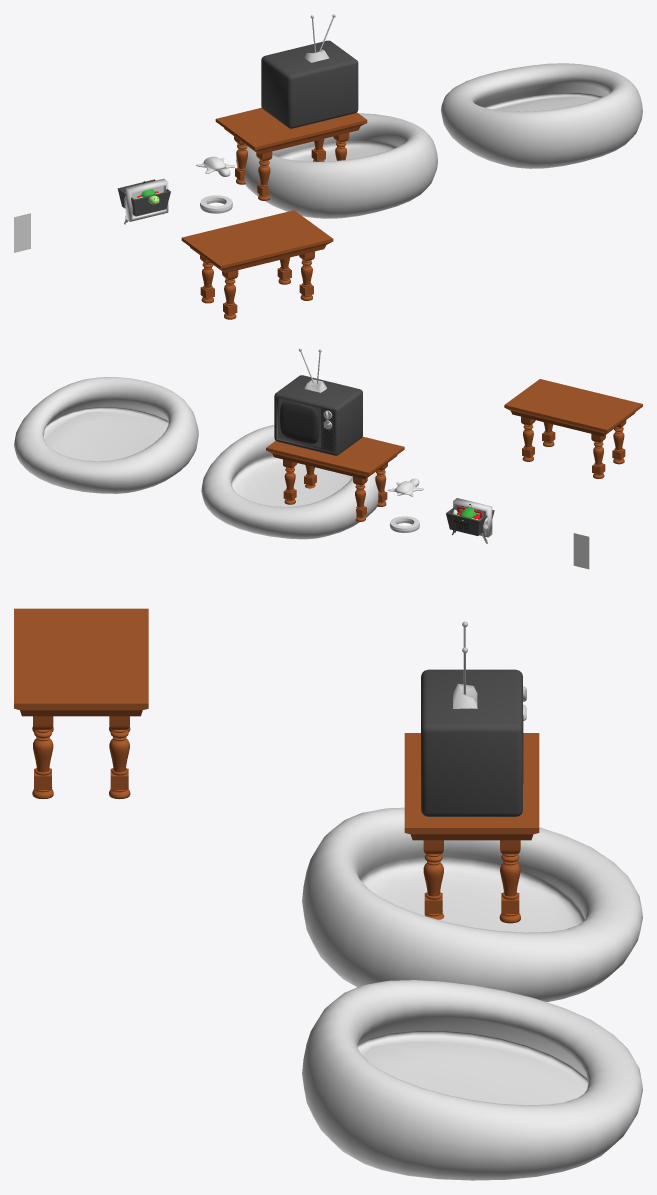
File: BreadBox.fbx
3 renders of one model, top to bottom at view 1: azimuth 30°, elevation 25°; view 2: azimuth 150°, elevation 25°; view 3: azimuth 270°, elevation 25°, orthographic. The views are drawn at different scales.
Parts seen in each view (by area): view 1: Dog's Bed, Dog's Bed_HP, TV, TableTop.001, Table, Tablefeet.001, Window, ToyBox, Plane.001, Torus; view 2: Dog's Bed, Dog's Bed_HP, TV, TableTop.001, Table, Tablefeet.001, ToyBox, Plane.001, Window, Torus, ToyTurtle.001; view 3: Dog's Bed, Dog's Bed_HP, TV, TableTop.001, Table, Tablefeet.001.
Boxes of the visible parts, bbox=[...] form: Dog's Bed: bbox=[441, 63, 642, 168]; Dog's Bed_HP: bbox=[236, 113, 437, 218]; TV: bbox=[261, 14, 358, 128]; TableTop.001: bbox=[181, 210, 333, 273]; Table: bbox=[215, 107, 367, 200]; Tablefeet.001: bbox=[200, 251, 314, 319]; Window: bbox=[125, 178, 168, 221]; ToyBox: bbox=[117, 179, 170, 216]; Plane.001: bbox=[14, 213, 30, 252]; Torus: bbox=[200, 195, 232, 213]; Dog's Bed: bbox=[14, 377, 198, 493]; Dog's Bed_HP: bbox=[201, 425, 385, 539]; TV: bbox=[274, 348, 362, 455]; TableTop.001: bbox=[504, 379, 642, 436]; Table: bbox=[266, 436, 404, 521]; Tablefeet.001: bbox=[521, 416, 626, 478]; ToyBox: bbox=[446, 507, 494, 535]; Plane.001: bbox=[573, 533, 589, 569]; Window: bbox=[453, 498, 492, 537]; Torus: bbox=[389, 516, 419, 532]; ToyTurtle.001: bbox=[388, 478, 423, 496]; Dog's Bed: bbox=[302, 980, 642, 1180]; Dog's Bed_HP: bbox=[302, 807, 642, 1001]; TV: bbox=[421, 621, 526, 816]; TableTop.001: bbox=[14, 608, 148, 716]; Table: bbox=[404, 733, 539, 923]; Tablefeet.001: bbox=[32, 716, 130, 799].
Bounding box in the file's own units: 7188 × 2054 × 3697.
